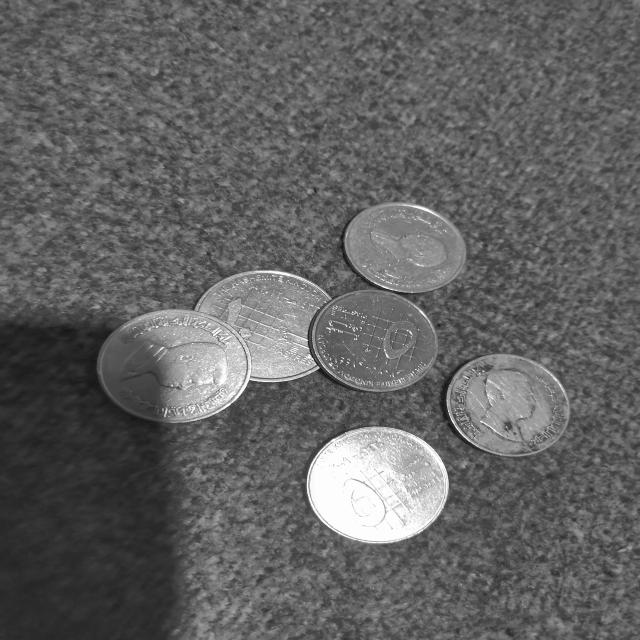10-coins: (196, 270, 342, 385)
5-coins: (95, 306, 252, 428), (304, 427, 453, 545), (446, 354, 574, 458), (310, 290, 439, 392), (342, 201, 471, 295)
